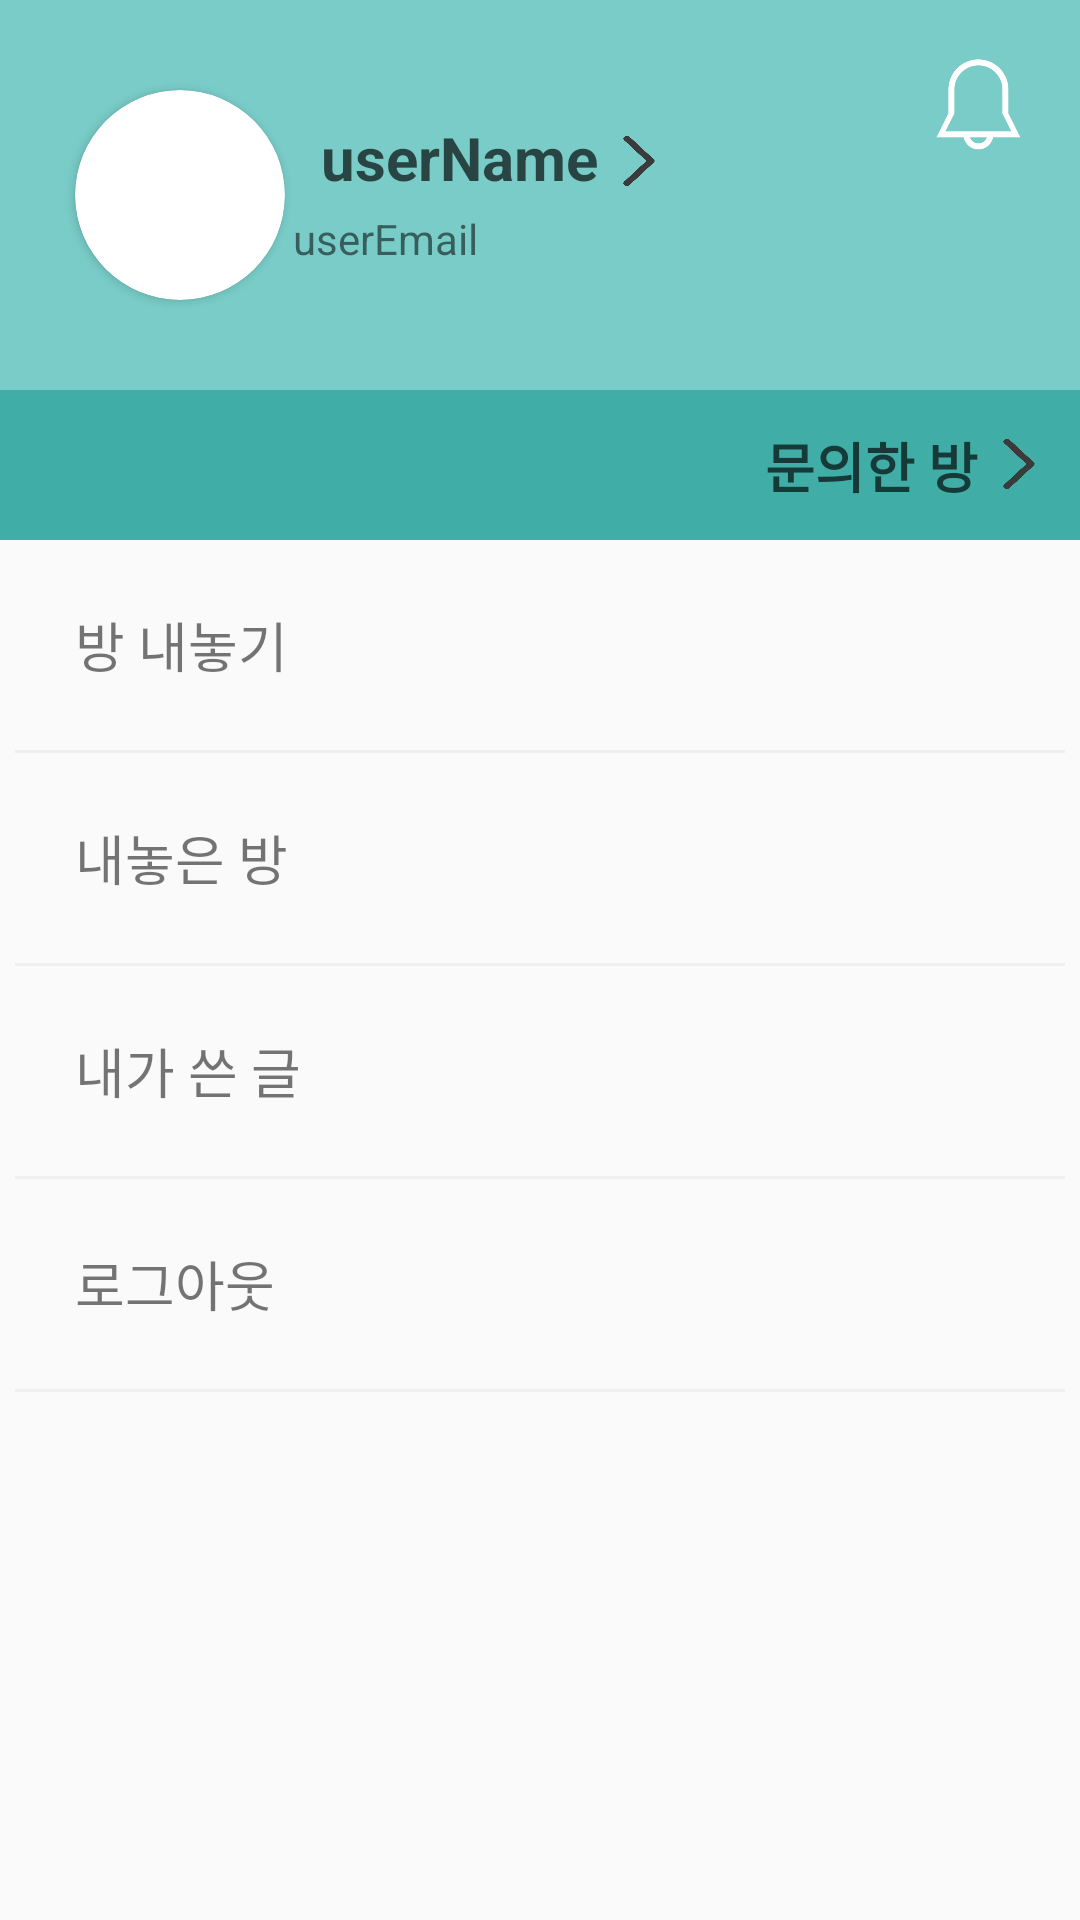

Icon click points for this 1080w x 1920h phone screenshot, format (x=x, y=y):
alram: (x=978, y=104)
